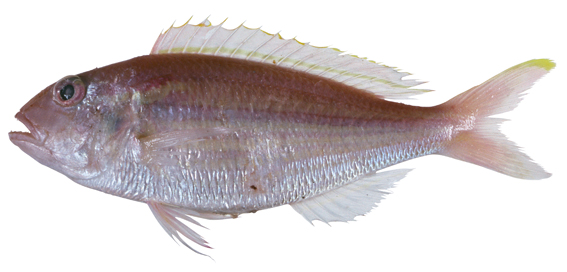fish: (9, 16, 556, 259)
